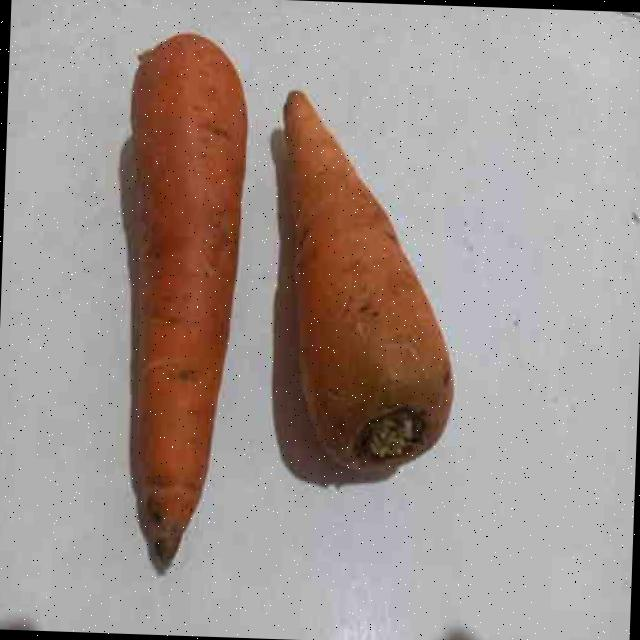carrot: (284, 91, 454, 471), (131, 33, 246, 573)
